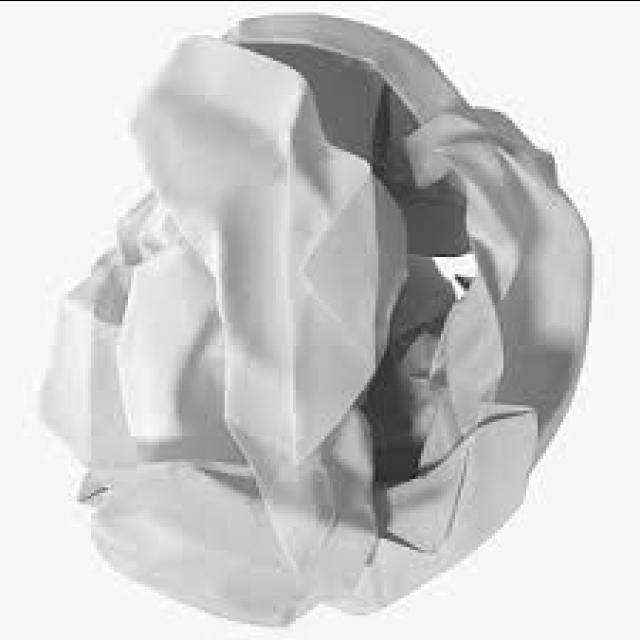crampled paper: (41, 14, 589, 625)
